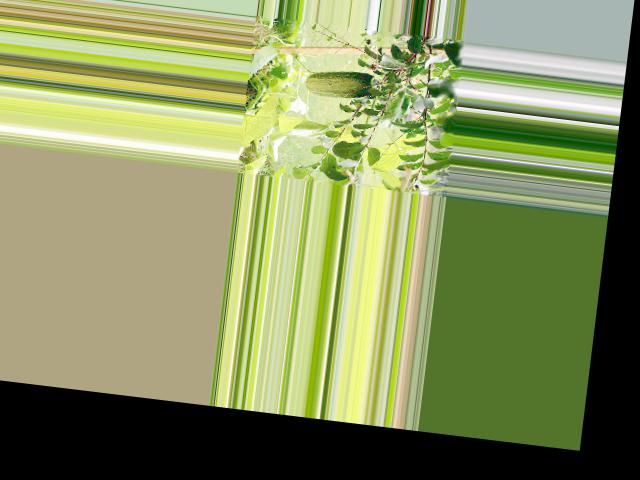cucumber: (304, 65, 382, 102)
